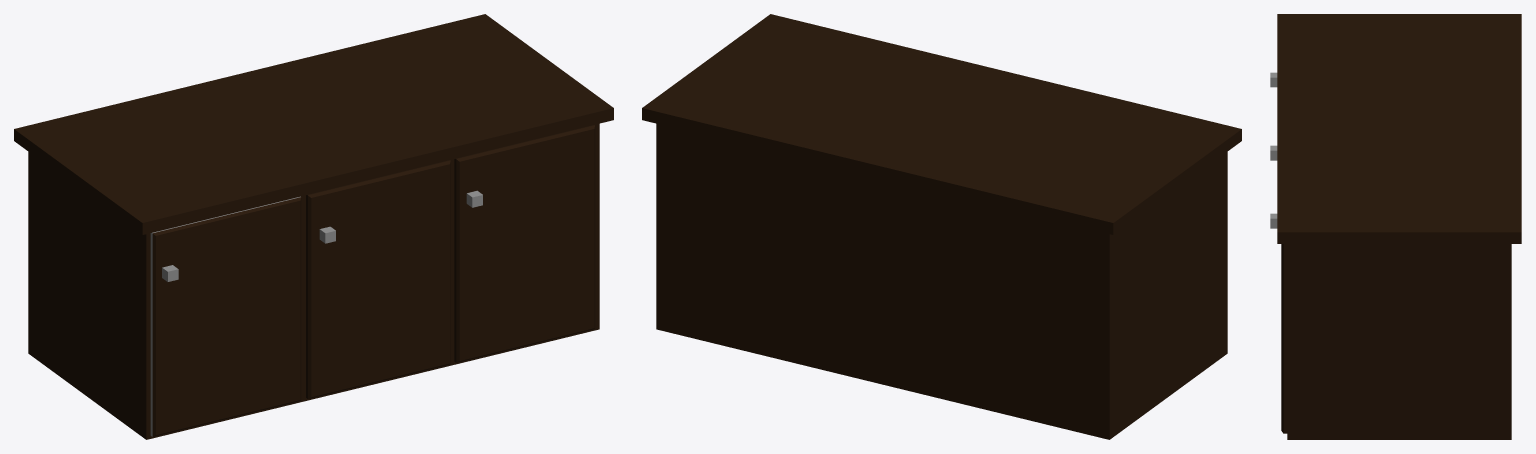
Rendered from Counter and Doors.FBX.
3 views of the same model, side by side, from view 1: azimuth 30°, elevation 25°; view 2: azimuth 150°, elevation 25°; view 3: azimuth 270°, elevation 25° (orthographic). The views are drawn at different scales.
Parts seen in each view (by area): view 1: Counter 3 Door (×2), Counter 1, Counter 2 Door, Counter 3, Counter 2; view 2: Counter 1, Counter 2, Counter 3; view 3: Counter 3, Counter 1, Counter 2, Counter 3 Door.
Boxes of the visible parts, <box> form: Counter 3 Door (×2): <box>150,125,595,436</box>; Counter 1: <box>14,89,306,439</box>; Counter 2 Door: <box>306,160,450,398</box>; Counter 3: <box>329,14,613,365</box>; Counter 2: <box>178,52,457,401</box>; Counter 1: <box>949,89,1241,439</box>; Counter 2: <box>798,52,1077,401</box>; Counter 3: <box>642,14,926,365</box>; Counter 3: <box>1277,160,1521,439</box>; Counter 1: <box>1277,14,1521,89</box>; Counter 2: <box>1277,90,1521,159</box>; Counter 3 Door: <box>1270,213,1287,433</box>.
Size of the model in its own units: 467 by 211 by 227.
